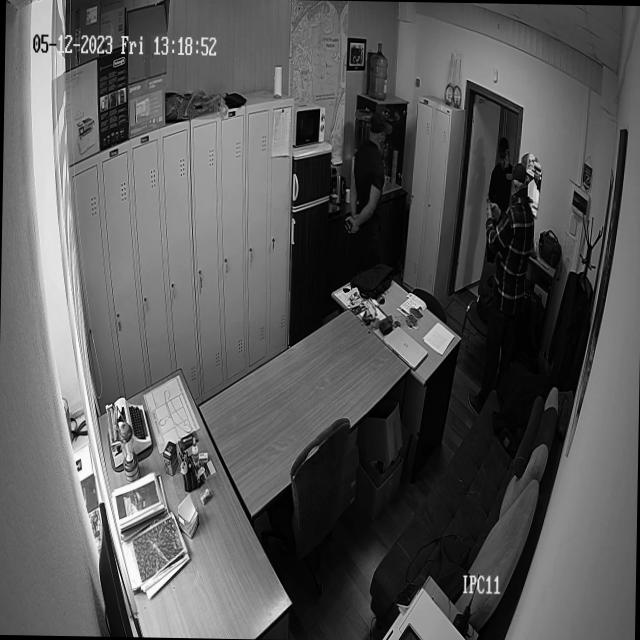person: (466, 160, 536, 418), (343, 110, 395, 269)
